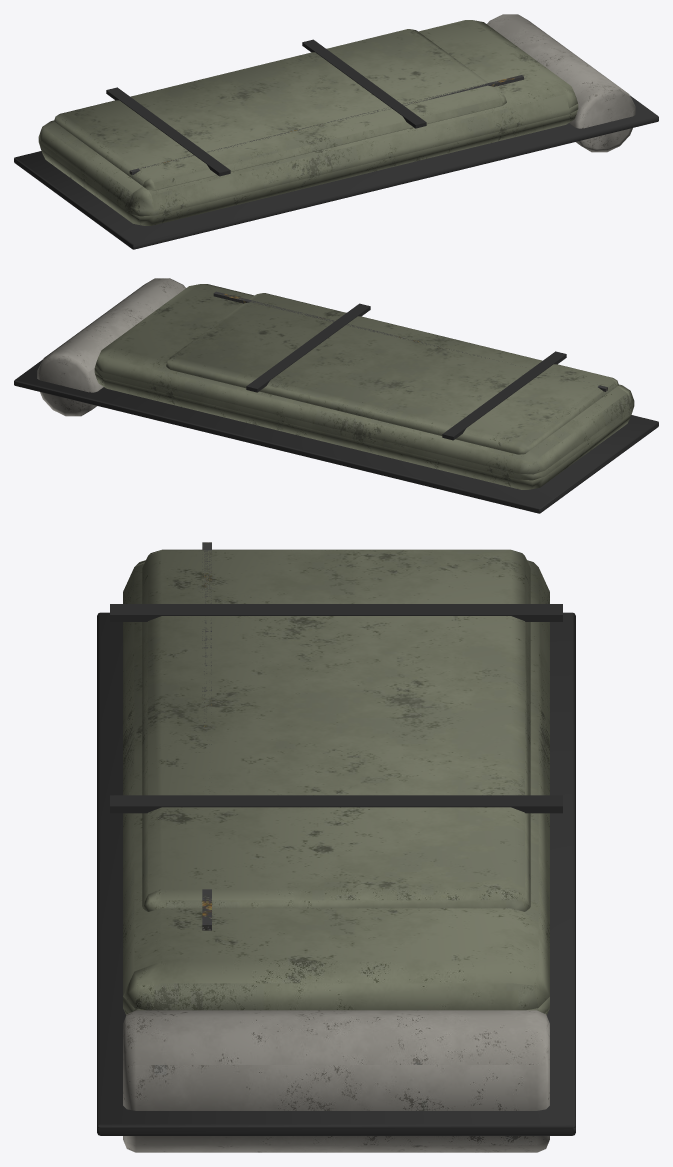
The model's file is deploy_sleepbag.glb.
3 renders of one model, top to bottom at view 1: azimuth 30°, elevation 25°; view 2: azimuth 150°, elevation 25°; view 3: azimuth 270°, elevation 25°, orthographic. The views are drawn at different scales.
Visible parts, largest first — view 1: box.002, box.001, box, cyl, box.005, box.004, box.003; view 2: box.002, box.001, box, cyl, box.005, box.004, box.003; view 3: box.002, box.001, cyl, box, box.005, box.004, box.003.
Part boxes in pixels (x1,y1,x2,y2): box.002: [54, 29, 506, 190]; box.001: [38, 20, 578, 225]; box: [14, 95, 658, 249]; cyl: [487, 14, 635, 152]; box.005: [302, 39, 426, 128]; box.004: [106, 87, 230, 176]; box.003: [129, 75, 523, 175]; box.002: [166, 293, 618, 454]; box.001: [94, 284, 634, 489]; box: [14, 359, 658, 513]; cyl: [37, 278, 185, 416]; box.005: [246, 303, 370, 392]; box.004: [442, 351, 566, 440]; box.003: [213, 291, 607, 391]; box.002: [142, 549, 530, 911]; box.001: [123, 560, 549, 1014]; cyl: [123, 1010, 549, 1152]; box: [97, 612, 575, 1135]; box.005: [110, 795, 562, 813]; box.004: [110, 604, 562, 621]; box.003: [202, 542, 211, 930].
Bounding box in the file's own units: 1.88 × 0.272 × 0.74.
Materials: 4 (3 with a texture image).
